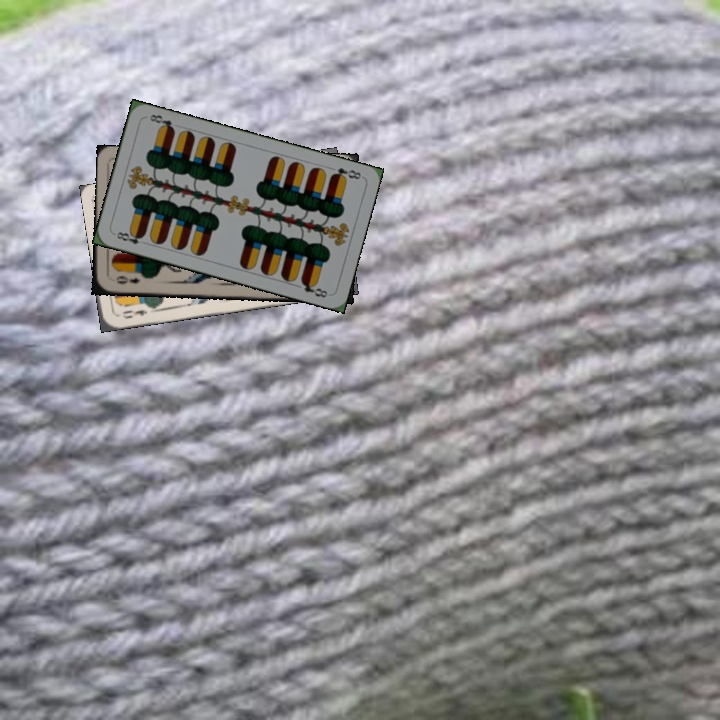E8: (110, 228, 147, 247), (327, 164, 364, 183)
EO: (118, 306, 150, 321), (112, 272, 142, 287)
